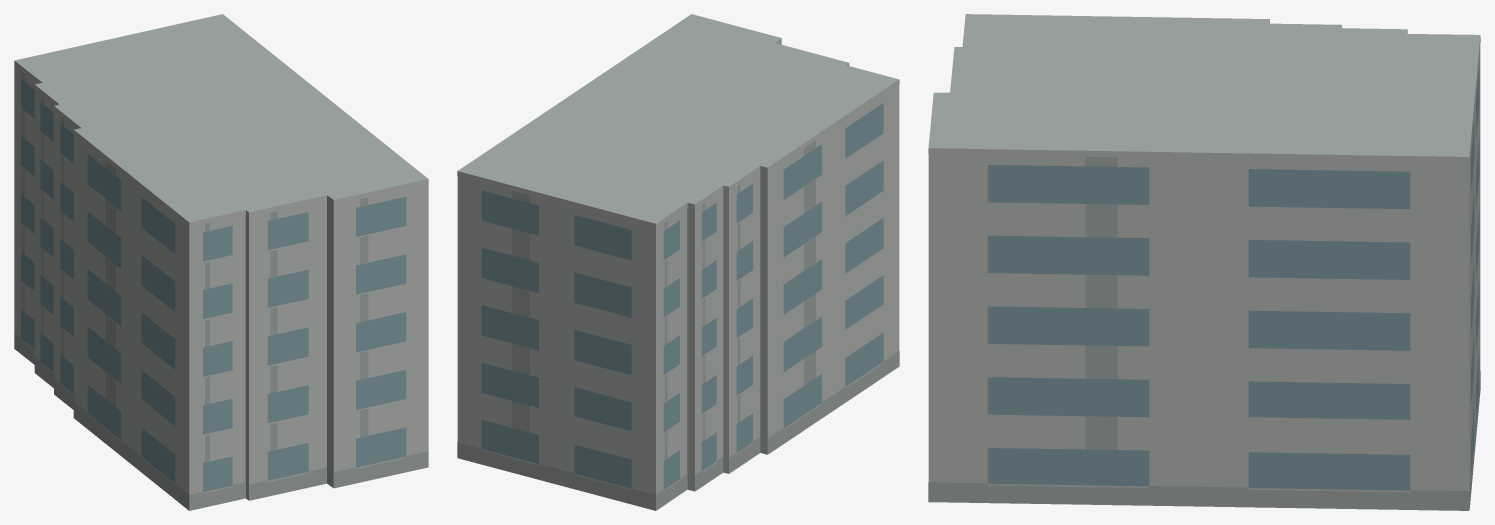
The model's file is survey-upis-32762600.glb.
3 renders of one model, left to right at view 1: azimuth 30°, elevation 25°; view 2: azimuth 150°, elevation 25°; view 3: azimuth 270°, elevation 25°, orthographic. The views are drawn at different scales.
Parts seen in each view (by area): view 1: survey-upis-32762600.tmp; view 2: survey-upis-32762600.tmp; view 3: survey-upis-32762600.tmp.
Boxes of the visible parts, left/top/right/bottom form: survey-upis-32762600.tmp: left=14, top=14, right=428, bottom=510; survey-upis-32762600.tmp: left=457, top=14, right=899, bottom=510; survey-upis-32762600.tmp: left=928, top=14, right=1480, bottom=510.
Bounding box in the file's own units: 12.53 × 14.45 × 20.44.
